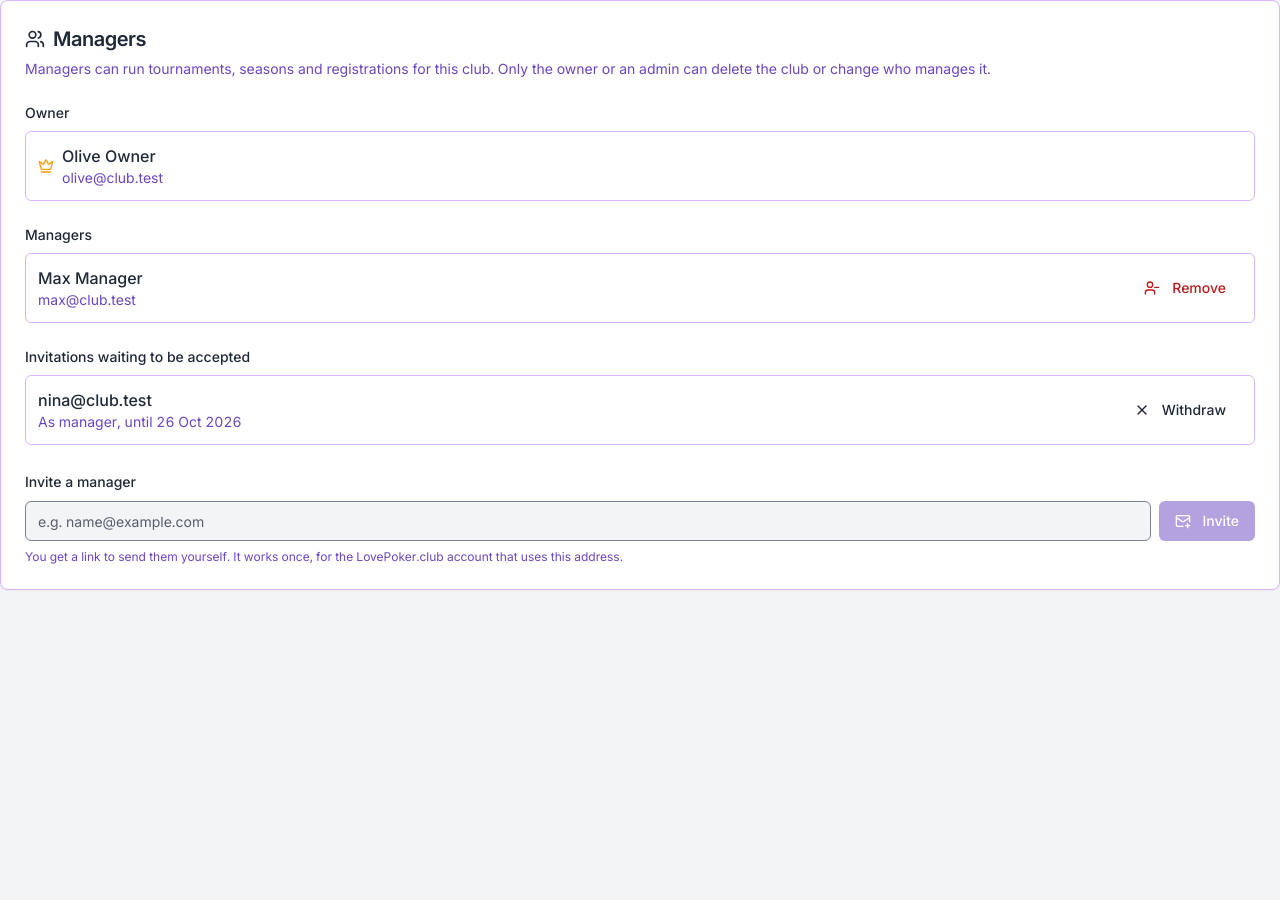
Test case: ClubStaffCard › withdraws an invitation still waiting
What coordinates should you click on to do the following:
click the button with aria-label "Withdraw the invitation for nina@club.test"
I would click on:
 (1180, 410)
Its box is [1118,390,1242,430].
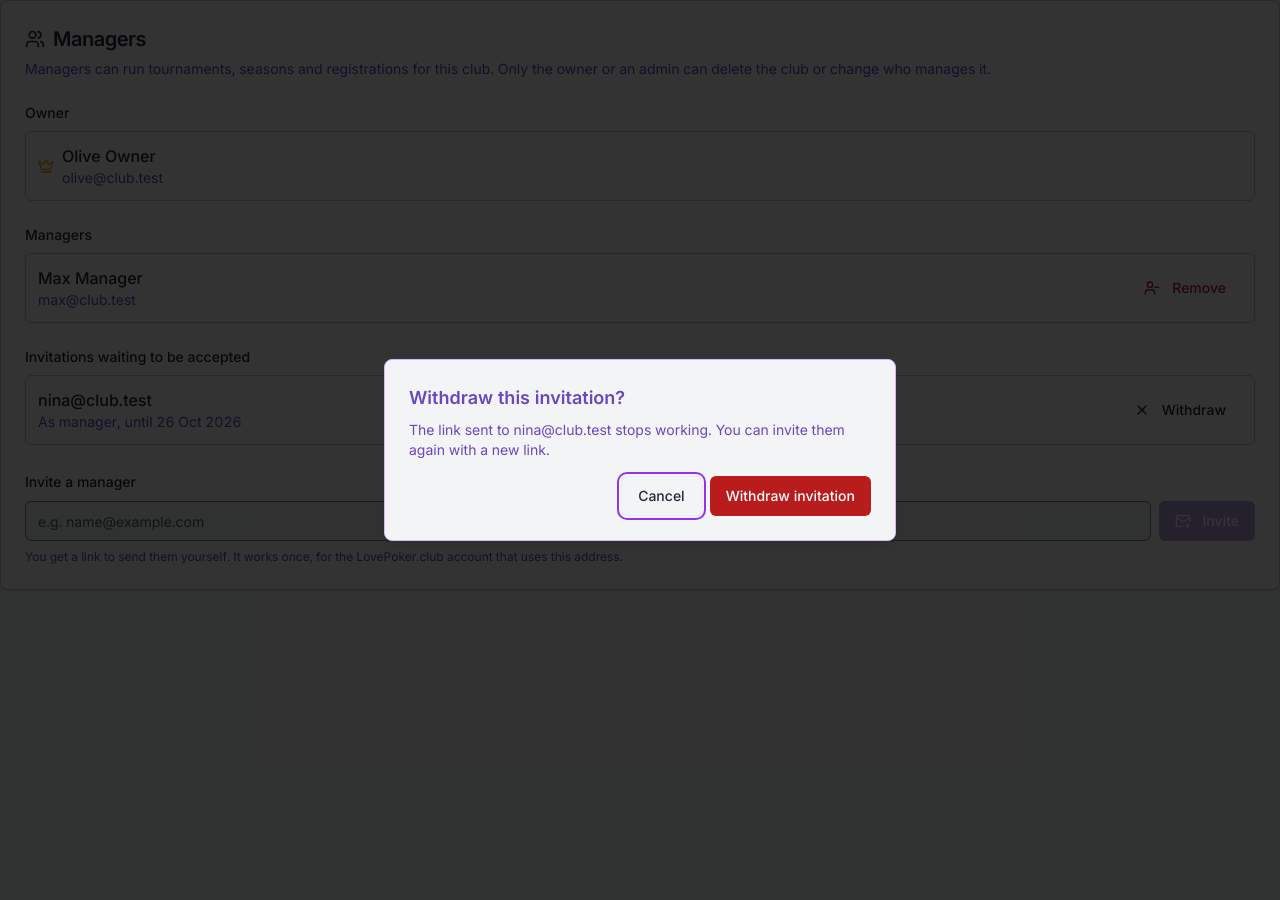
Expected: the dialog "Withdraw this invitation?" shows "The link sent to nina@club.test stops working", [409,421,845,458]
What coordinates should you click on to do the following:
click the button "Withdraw invitation"
I would click on:
 (790, 496)
Its box is [710,476,871,516].
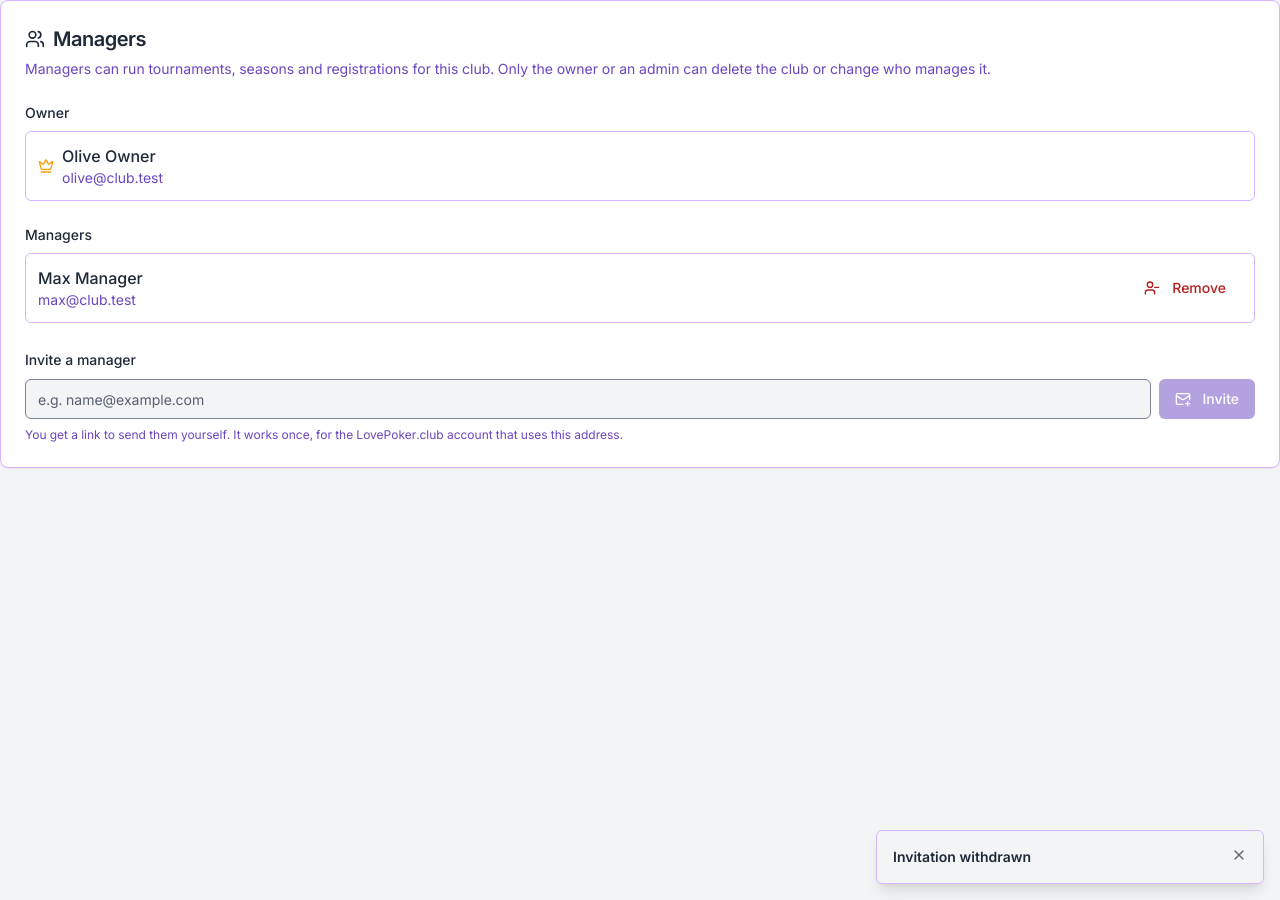
Expected: the list item with test id "invite-row-i1" is gone
Expected: the text "Invitation withdrawn" is shown, [893,848,1031,865]
